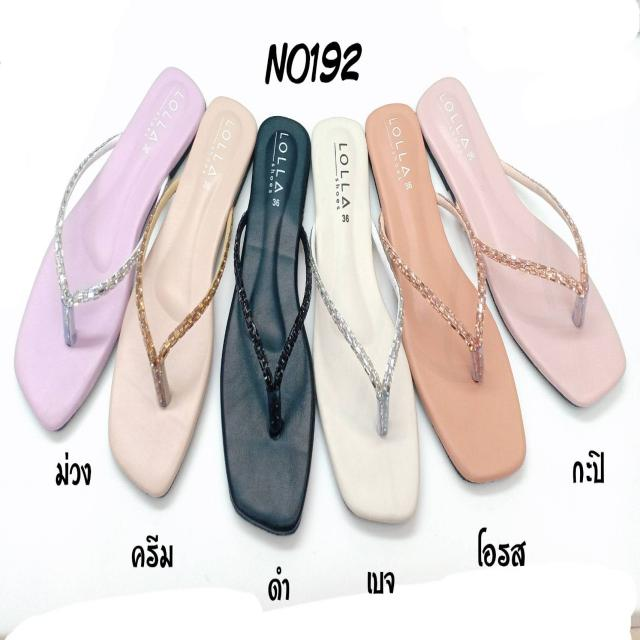bej: (308, 106, 417, 531)
black: (221, 90, 315, 563)
cream: (101, 77, 255, 502)
kapi: (414, 70, 633, 432)
orot: (356, 93, 525, 491)
purple: (0, 29, 210, 432)
